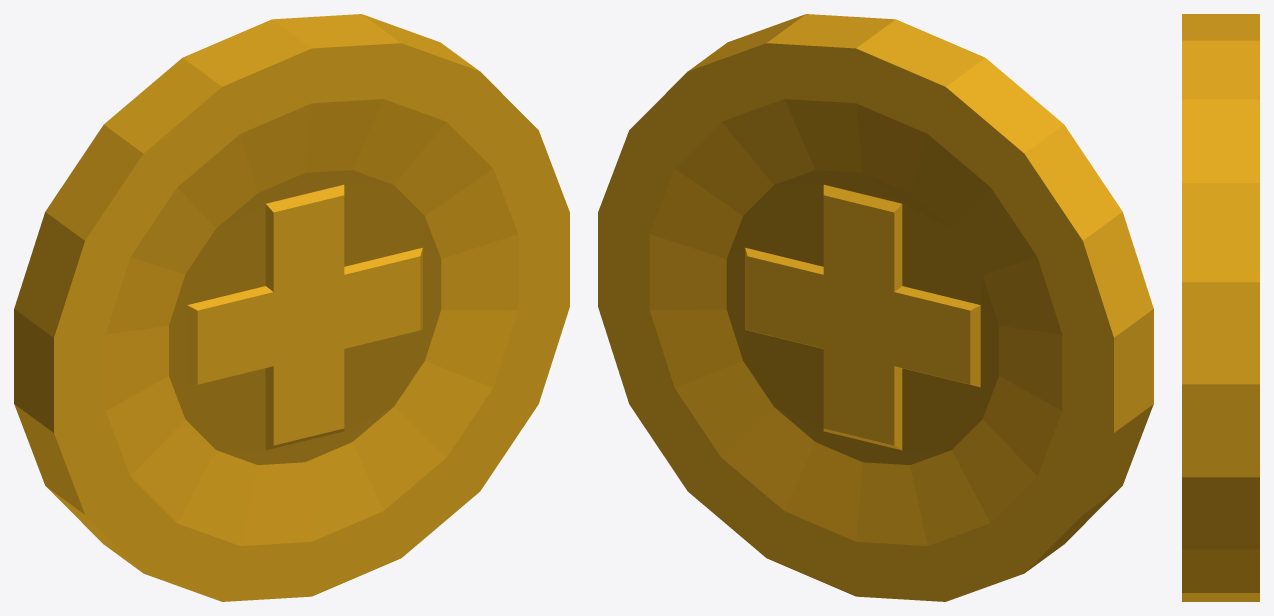
Rendered from CoinCollectible.fbx.
3 renders of one model, left to right at view 1: azimuth 30°, elevation 25°; view 2: azimuth 150°, elevation 25°; view 3: azimuth 270°, elevation 25°, orthographic. The views are drawn at different scales.
Parts seen in each view (by area): view 1: Coin; view 2: Coin; view 3: Coin.
Boxes of the visible parts, x1=… form: Coin: x1=14, y1=14, x2=569, y2=601; Coin: x1=598, y1=14, x2=1153, y2=601; Coin: x1=1182, y1=14, x2=1259, y2=601.
Bounding box in the file's own units: 197 × 26.34 × 200.
